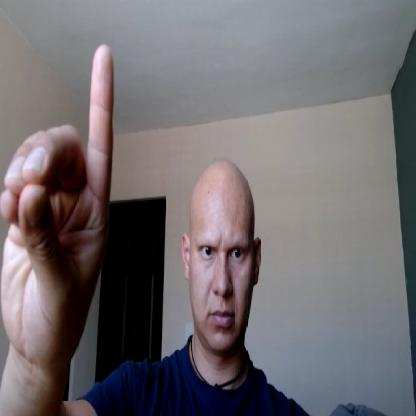D: (0, 43, 114, 346)
